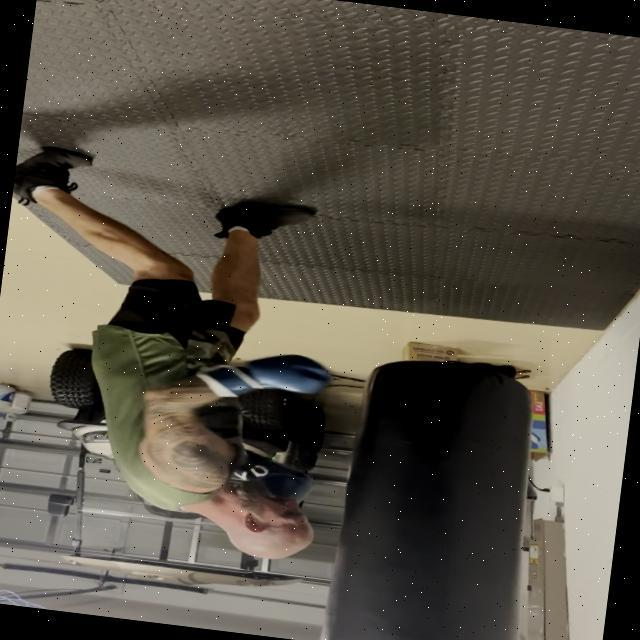bag: (308, 342, 569, 640)
uppercut: (94, 316, 346, 581)
